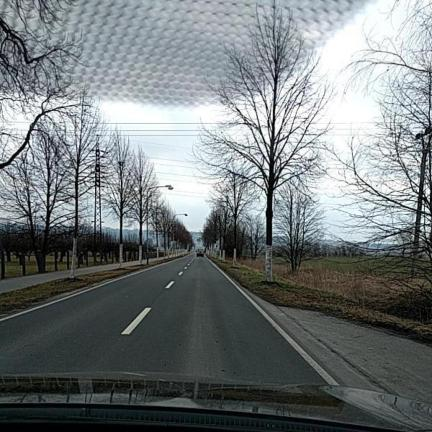Road: (0, 254, 324, 383)
